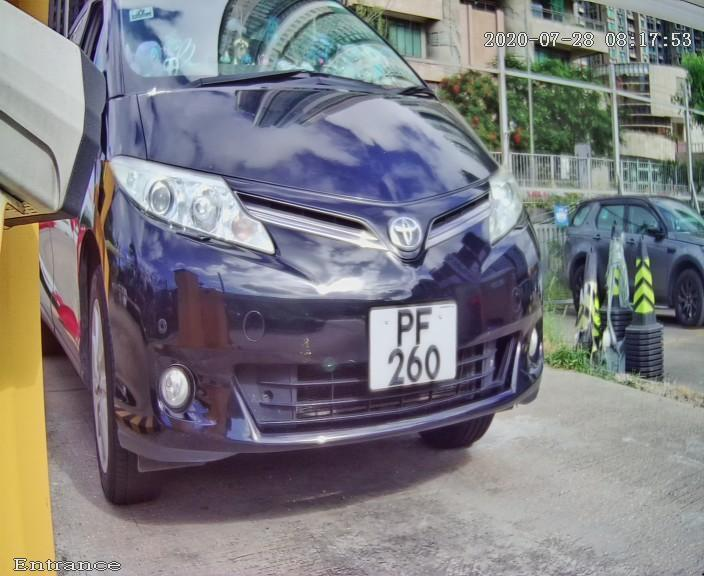privatecar: (7, 8, 620, 528)
